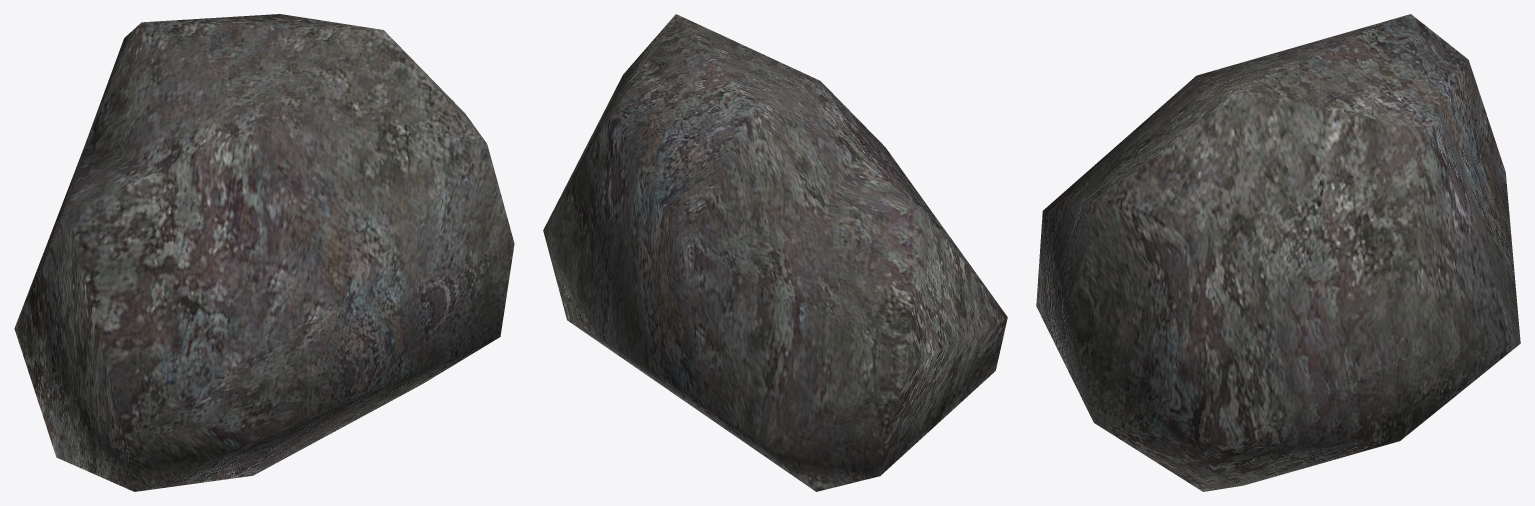
The model's file is rock_volcanorockb_l1.fbx.
3 renders of one model, left to right at view 1: azimuth 30°, elevation 25°; view 2: azimuth 150°, elevation 25°; view 3: azimuth 270°, elevation 25°, orthographic. The views are drawn at different scales.
Visible parts, largest first — view 1: mesh_node; view 2: mesh_node; view 3: mesh_node.
Part boxes in pixels (x1,y1,x2,y2): mesh_node: (14, 14, 514, 491); mesh_node: (543, 14, 1007, 491); mesh_node: (1036, 14, 1520, 491).
Bounding box in the file's own units: 5.37 × 5.36 × 5.08.
1 material, 1 textured.
